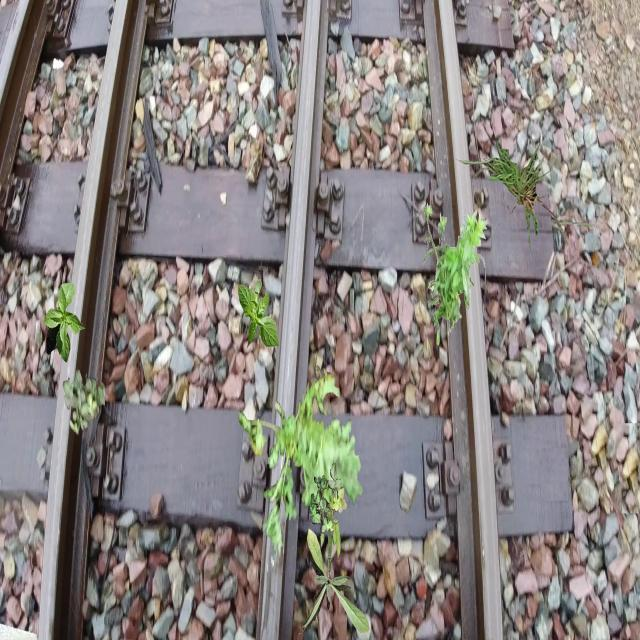Plant: (239, 365, 364, 561), (449, 138, 592, 258), (423, 202, 488, 346), (298, 528, 370, 636), (44, 283, 86, 363), (238, 279, 280, 350), (62, 369, 106, 436), (309, 463, 346, 536)
